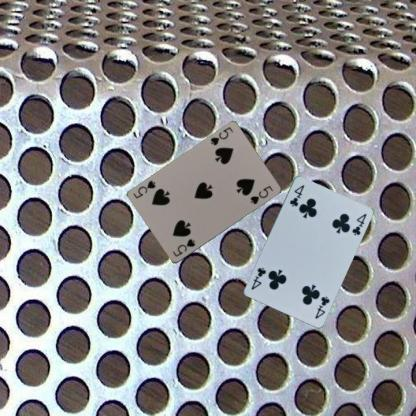4c: (286, 182, 306, 208), (312, 294, 330, 320)
5s: (208, 124, 234, 147), (170, 236, 196, 258)
